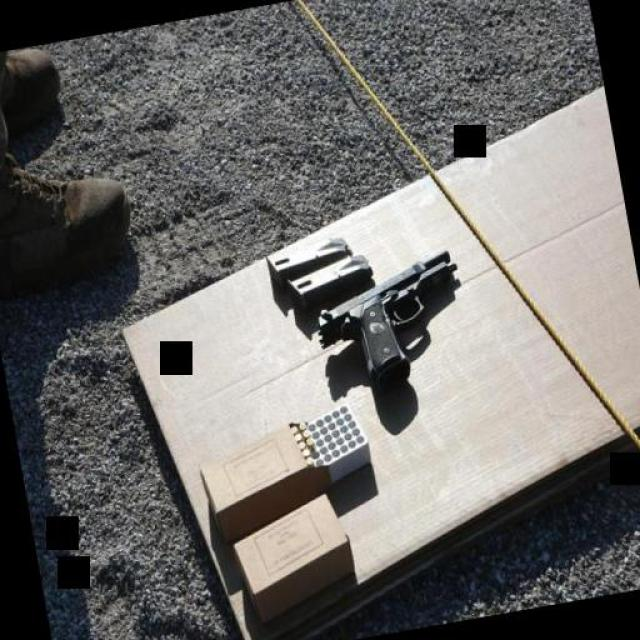gun: (298, 238, 478, 412)
